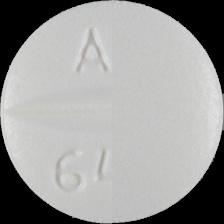68084-540: (0, 0, 224, 224)
